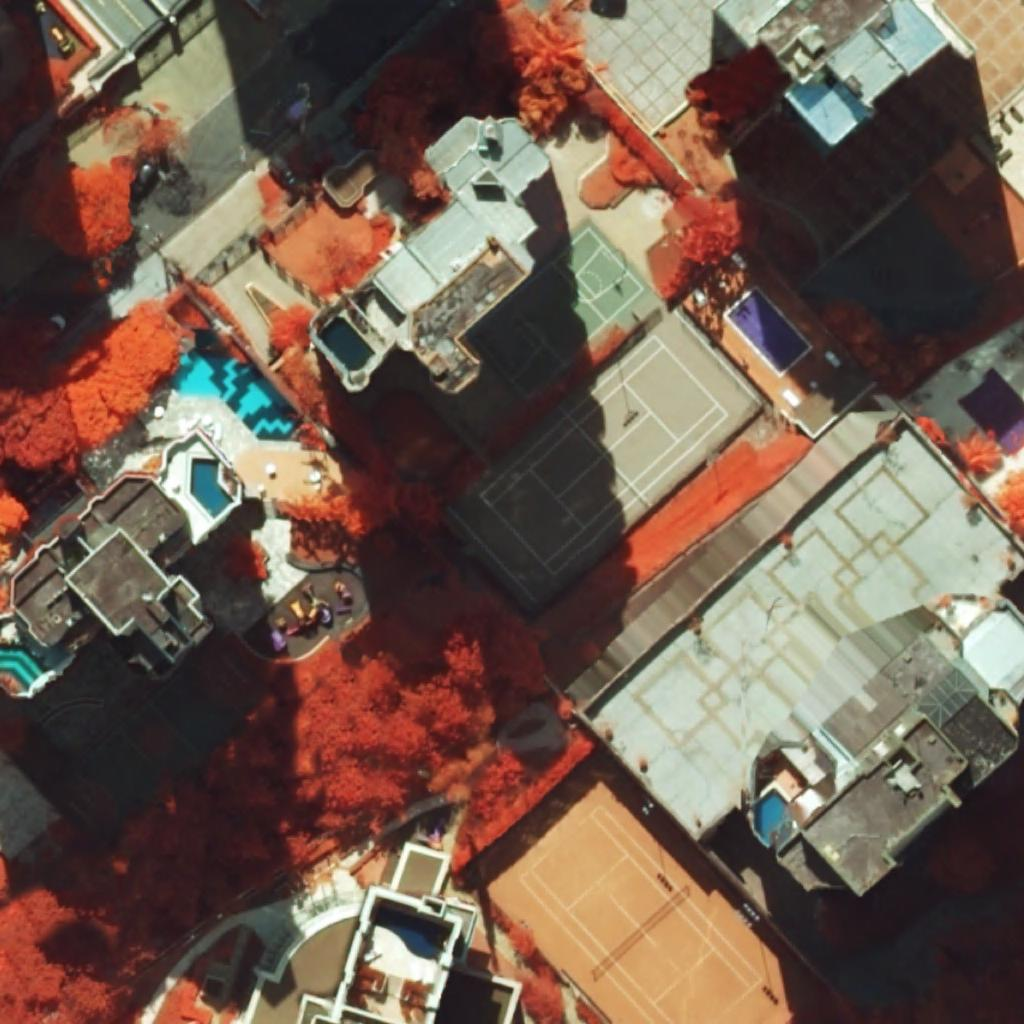pool: (168, 350, 304, 440), (727, 289, 809, 373), (957, 368, 1023, 458), (374, 907, 448, 960), (320, 317, 375, 370), (190, 458, 234, 519), (0, 647, 45, 689), (755, 788, 787, 845)
